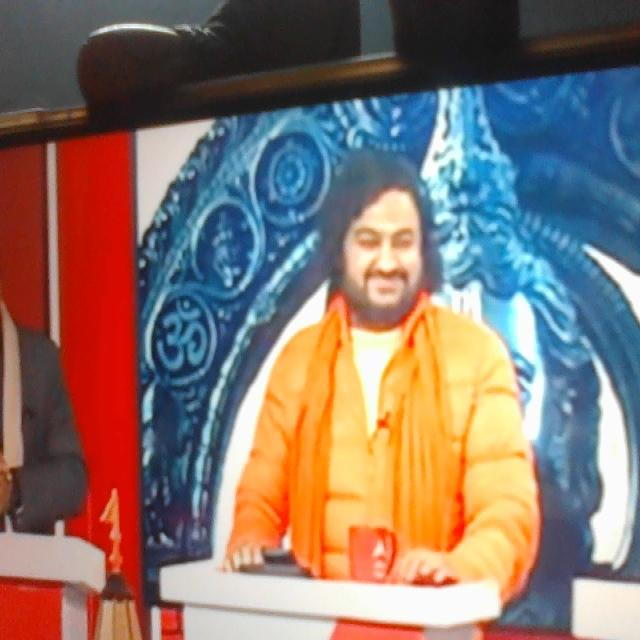fake: (329, 124, 446, 345)
